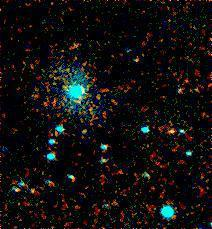star: (68, 118, 98, 148)
